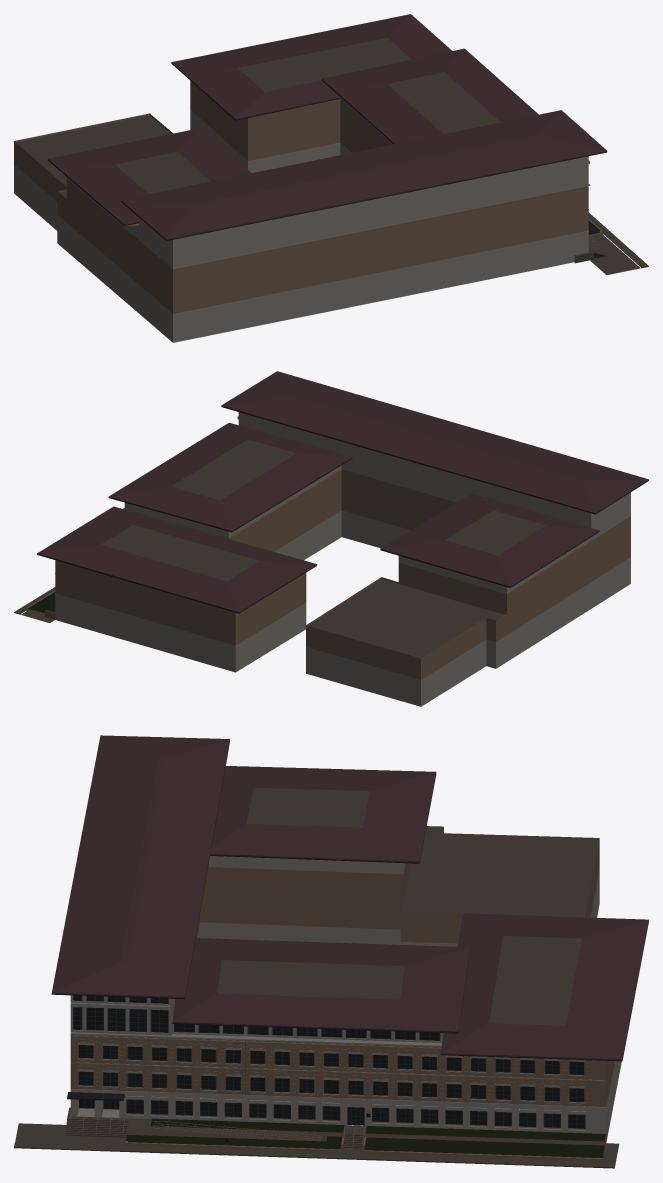
Rendered from seay-building-look.glb.
3 views of the same model, one above another, from view 1: azimuth 30°, elevation 25°; view 2: azimuth 150°, elevation 25°; view 3: azimuth 270°, elevation 25° (orthographic). The views are drawn at different scales.
Parts seen in each view (by area): view 1: n_roof_red, n_stone, n_wall_brick, n_paving_concrete, n_gutter_grey; view 2: n_roof_red, n_stone, n_wall_brick, n_paving_concrete, n_gutter_grey; view 3: n_roof_red, n_paving_concrete, n_wall_brick, n_stone, n_glass_window, n_planting_green, n_frame_green, n_gutter_grey, n_rail_metal.
Part boxes in pixels (x1,y1,x2,y2): n_roof_red: [48, 14, 607, 240]; n_stone: [14, 97, 590, 342]; n_wall_brick: [14, 81, 602, 313]; n_paving_concrete: [16, 38, 648, 275]; n_gutter_grey: [48, 63, 607, 240]; n_roof_red: [37, 371, 648, 612]; n_stone: [55, 412, 630, 706]; n_wall_brick: [26, 469, 630, 679]; n_paving_concrete: [14, 439, 545, 658]; n_gutter_grey: [37, 406, 648, 613]; n_roof_red: [51, 735, 648, 1060]; n_paving_concrete: [14, 787, 619, 1168]; n_wall_brick: [70, 826, 614, 1162]; n_stone: [70, 856, 621, 1142]; n_glass_window: [73, 995, 584, 1128]; n_planting_green: [126, 1118, 605, 1158]; n_frame_green: [73, 995, 585, 1128]; n_gutter_grey: [51, 742, 648, 1100]; n_rail_metal: [69, 1113, 364, 1151].
Size of the model in its own units: 106 by 24.44 by 97.2.
